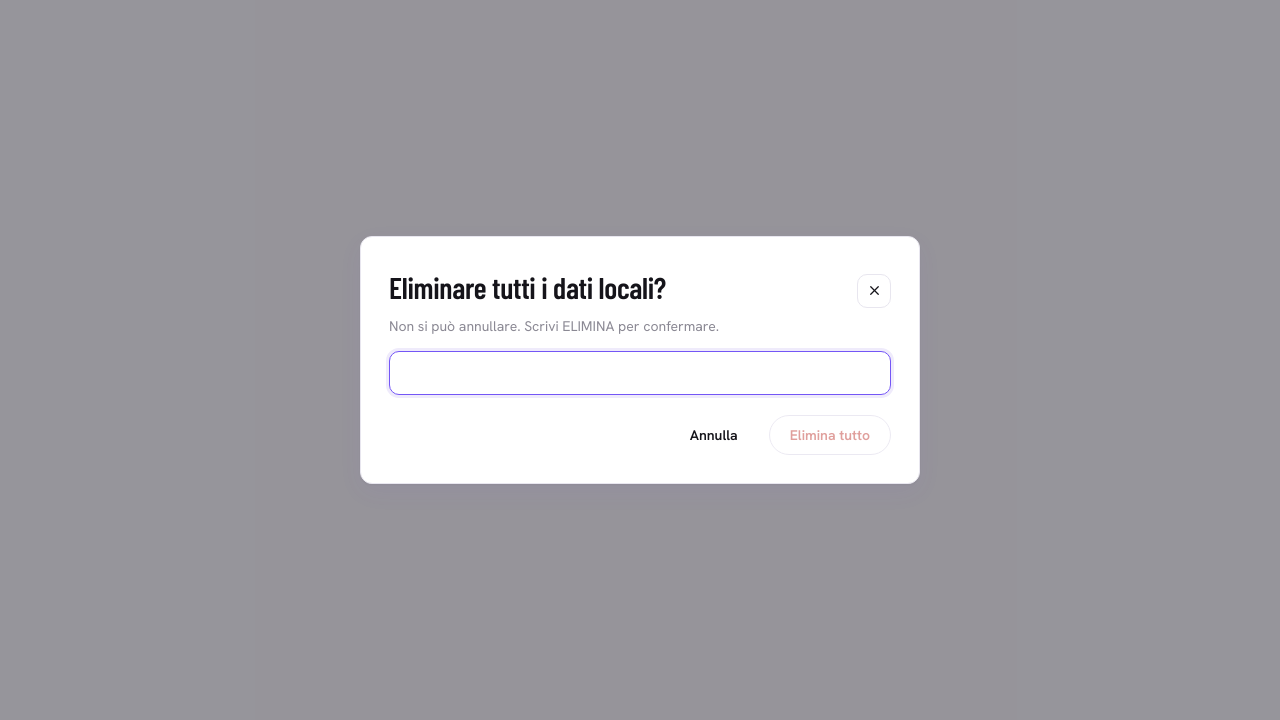
Scenario: DeleteDataModal › asks for the Italian word in Italian
Type "DELETE" into the field named "ELIMINA" at x=640, y=373, box [389,351,891,395]
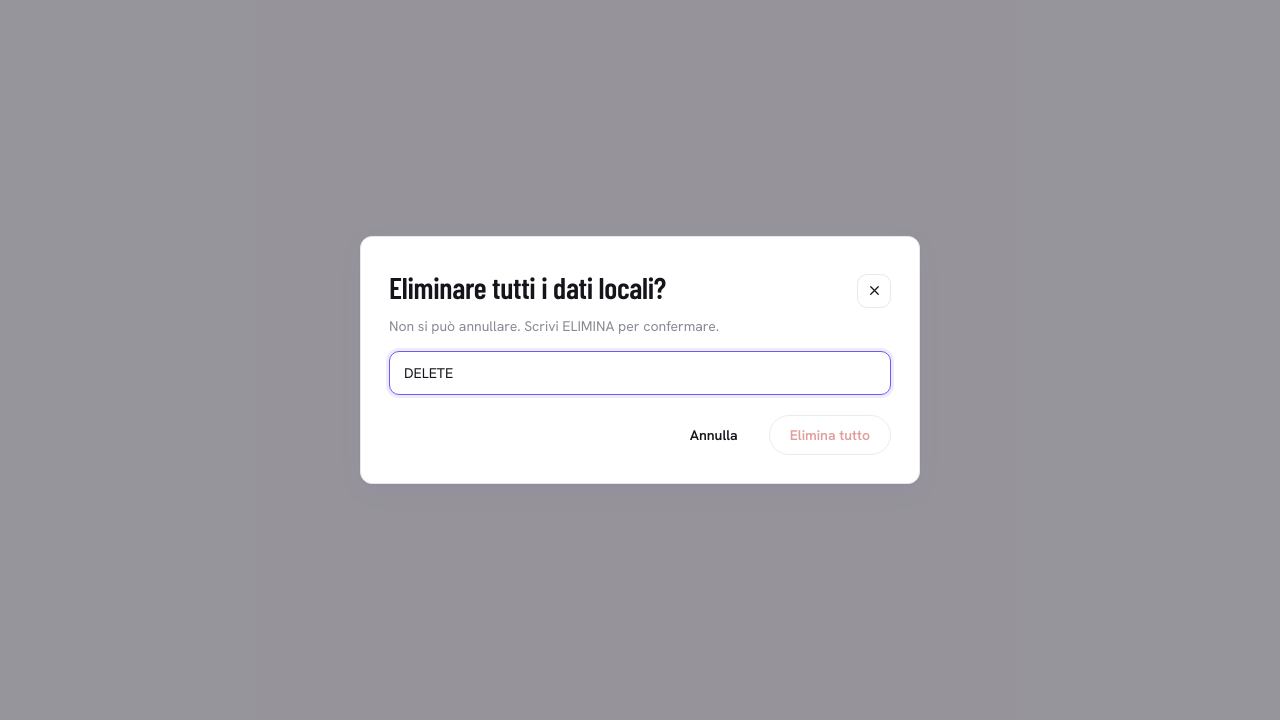
Check: the button "Elimina tutto" is disabled, box [769,415,891,455]
Replace the text in the field named "ELIMINA" with "elimina" at x=640, y=373, box [389,351,891,395]
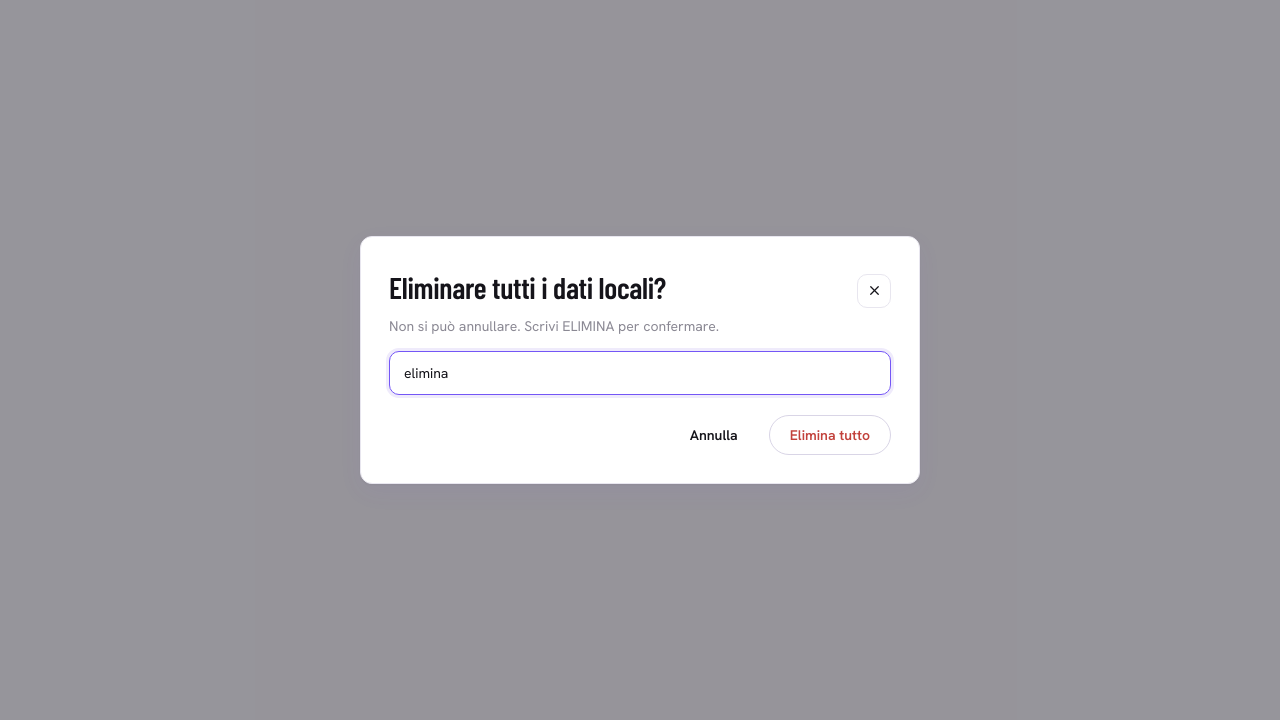
Check: the button "Elimina tutto" is enabled, box [769,415,891,455]
